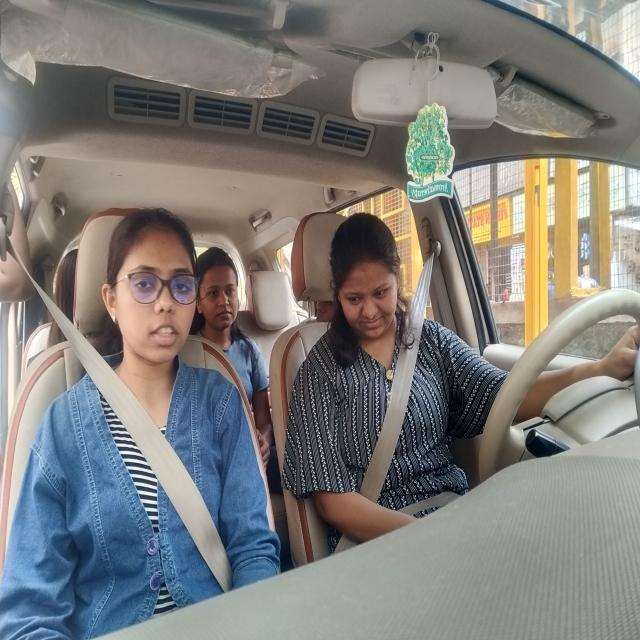person: (100, 198, 203, 367), (310, 210, 416, 372), (191, 238, 248, 358)
